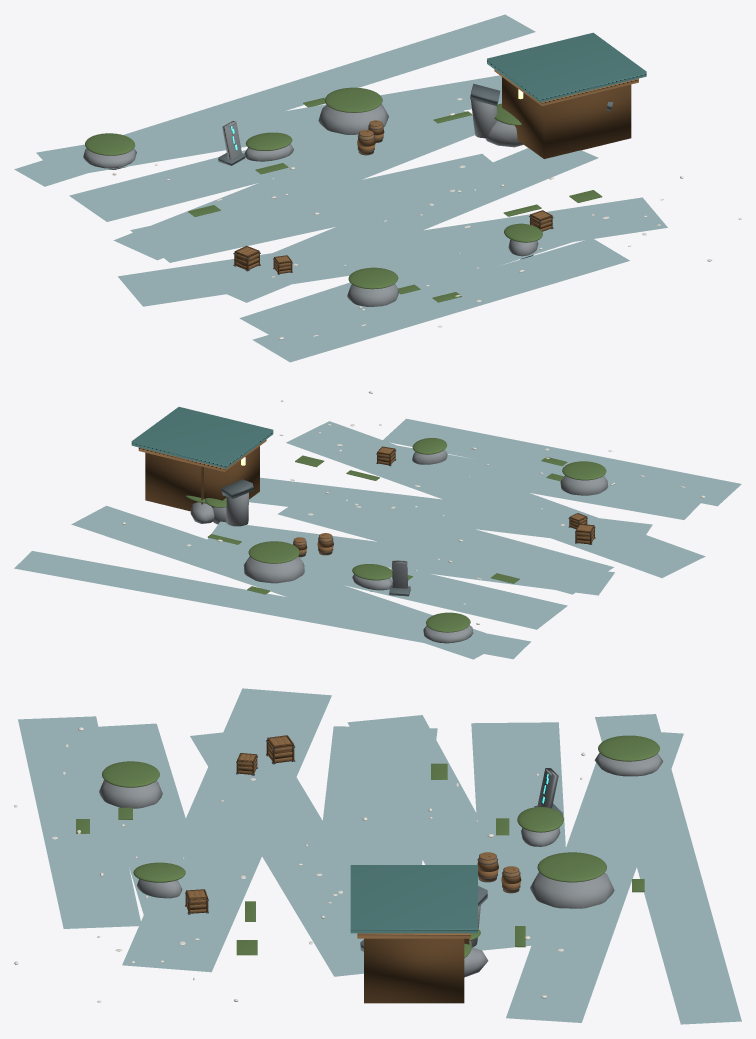
Rendered from 3D模型 scene_tidal_flats.glb.
3 renders of one model, top to bottom at view 1: azimuth 30°, elevation 25°; view 2: azimuth 150°, elevation 25°; view 3: azimuth 270°, elevation 25°, orthographic. The views are drawn at different scales.
Parts seen in each view (by area): view 1: stream_02, stream_04, stream_00, stream_06, stream_05, stream_08, stream_03, stream_07, stream_01, shack_body, shack_canvas_roof, moss_rock_02 (+10 smaller); view 2: stream_02, stream_08, stream_04, stream_00, stream_07, stream_06, stream_03, stream_01, stream_05, shack_canvas_roof, shack_body, moss_rock_02 (+9 smaller); view 3: stream_02, stream_07, stream_08, stream_04, stream_00, stream_03, stream_05, stream_06, stream_01, shack_canvas_roof, shack_body, moss_rock_02 (+9 smaller).
Boxes of the visible parts, <box> form: stream_02: <box>118,197,667,306</box>; stream_04: <box>130,153,521,262</box>; stream_00: <box>252,238,629,362</box>; stream_06: <box>69,99,473,221</box>; stream_05: <box>113,106,475,260</box>; stream_08: <box>14,14,535,186</box>; stream_03: <box>215,148,598,302</box>; stream_07: <box>36,75,501,177</box>; stream_01: <box>239,216,605,337</box>; shack_body: <box>502,77,631,158</box>; shack_canvas_roof: <box>487,32,646,102</box>; moss_rock_02: <box>318,104,388,134</box>; stream_02: <box>286,421,705,577</box>; stream_08: <box>14,551,530,659</box>; stream_04: <box>277,497,613,594</box>; stream_00: <box>382,418,741,506</box>; stream_07: <box>71,505,497,659</box>; stream_06: <box>194,526,567,629</box>; stream_03: <box>249,477,652,538</box>; stream_01: <box>344,439,703,519</box>; stream_05: <box>204,521,614,595</box>; shack_canvas_roof: <box>131,407,273,468</box>; shack_body: <box>145,446,259,511</box>; moss_rock_02: <box>243,556,304,583</box>; stream_02: <box>122,688,331,972</box>; stream_07: <box>506,729,683,1022</box>; stream_08: <box>595,714,741,1024</box>; stream_04: <box>310,726,437,926</box>; stream_00: <box>18,716,141,928</box>; stream_03: <box>190,727,363,976</box>; stream_05: <box>347,715,547,950</box>; stream_06: <box>471,722,571,944</box>; stream_01: <box>91,723,220,936</box>; shack_canvas_roof: <box>350,865,477,933</box>; shack_body: <box>364,938,464,1003</box>; moss_rock_02: <box>530,872,614,908</box>.
Size of what is drawn, in the model's own units: 23.79 by 3.3 by 21.77.
